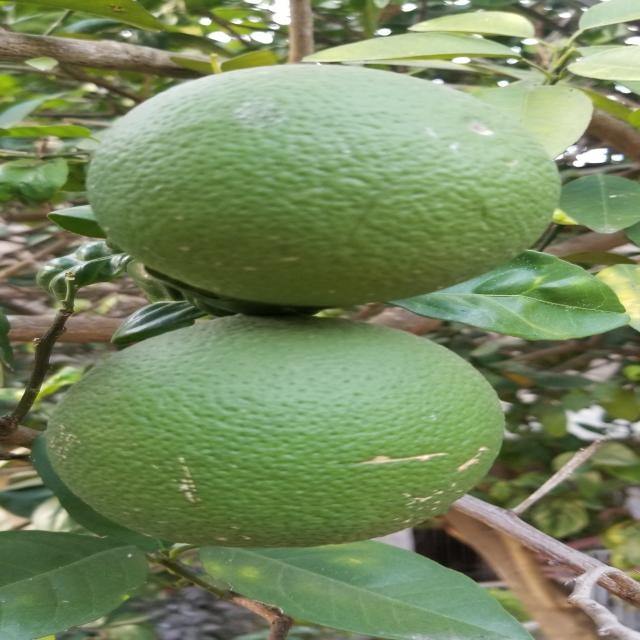agrume: (82, 65, 558, 310), (45, 313, 512, 546)
